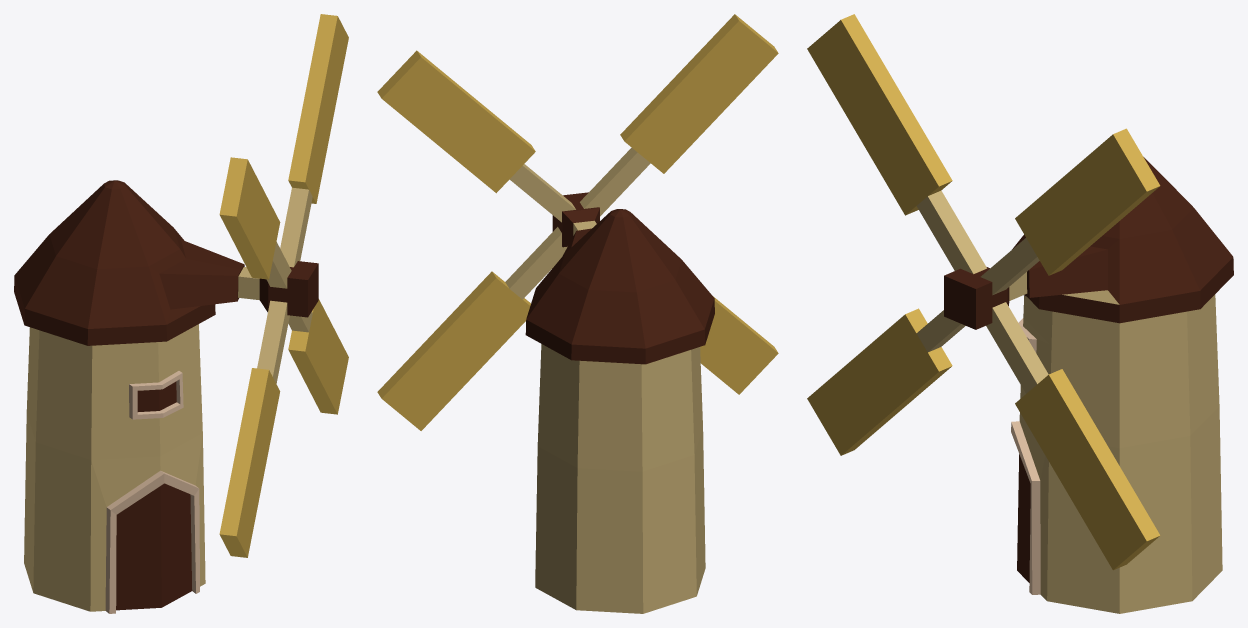
The model's file is Molino.fbx.
The picture shows the model from 3 angles, left to right: view 1: azimuth 30°, elevation 25°; view 2: azimuth 150°, elevation 25°; view 3: azimuth 270°, elevation 25°; orthographic projection. The views are drawn at different scales.
Visible parts, largest first — view 1: Molino; view 2: Molino; view 3: Molino.
Part boxes in pixels (bbox=[...]): Molino: bbox=[14, 14, 348, 613]; Molino: bbox=[377, 14, 778, 613]; Molino: bbox=[807, 14, 1233, 613].
Size of the model in its own units: 454 by 652 by 455.
